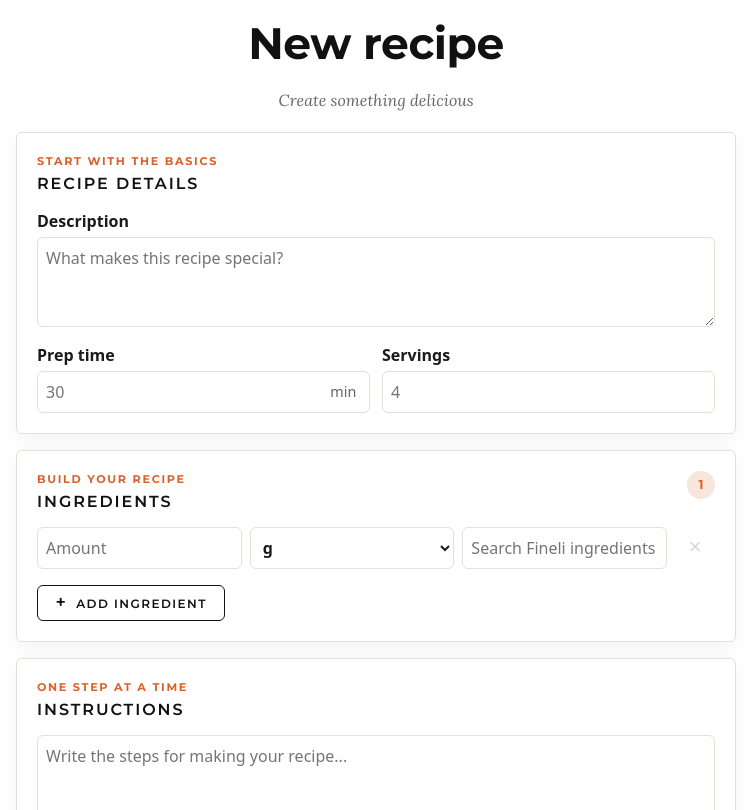
Test case: RecipeFormPage › rejects zero or negative ingredient amounts before calling the API
Step 1. Type "0" into the number field named "Amount for ingredient 1" → {"x": 139, "y": 548}, box [37,527,242,569]
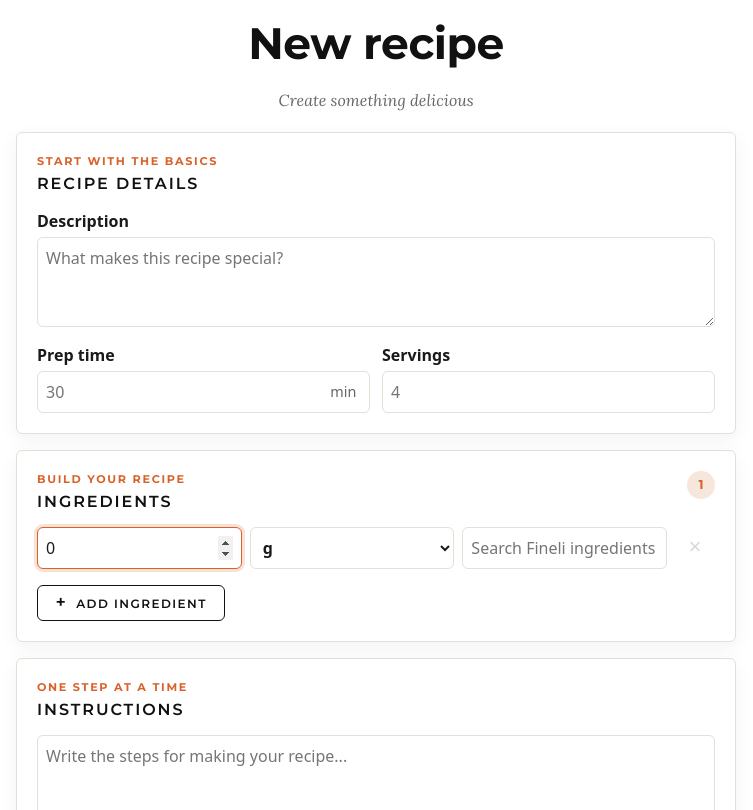
Step 2. Type "sugar" into the dropdown named "Ingredient 1" → {"x": 565, "y": 548}, box [462,527,667,569]
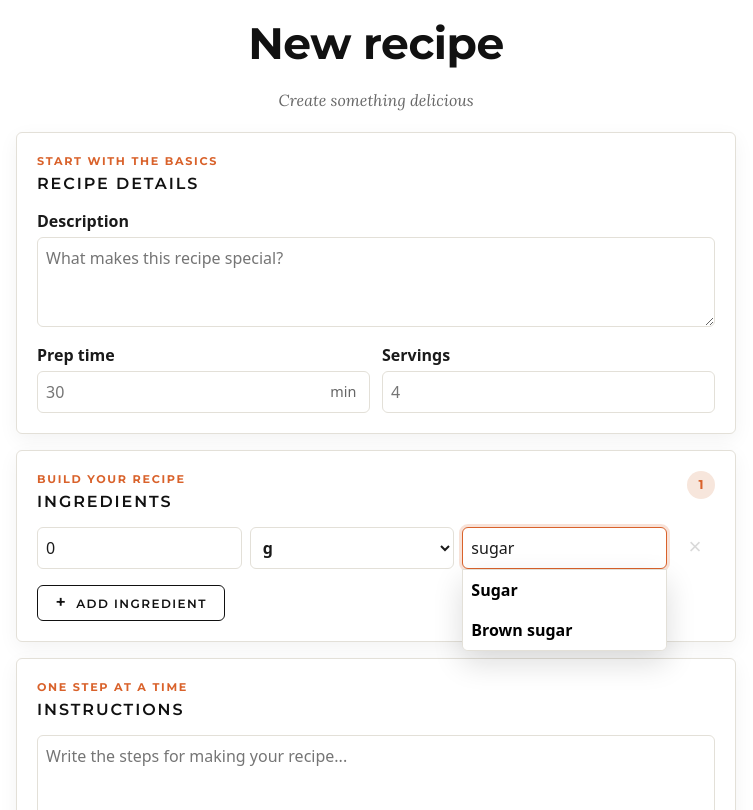
Step 3. Click the button "Sugar" → {"x": 565, "y": 590}, box [463,570,666,610]
(page scrolled)
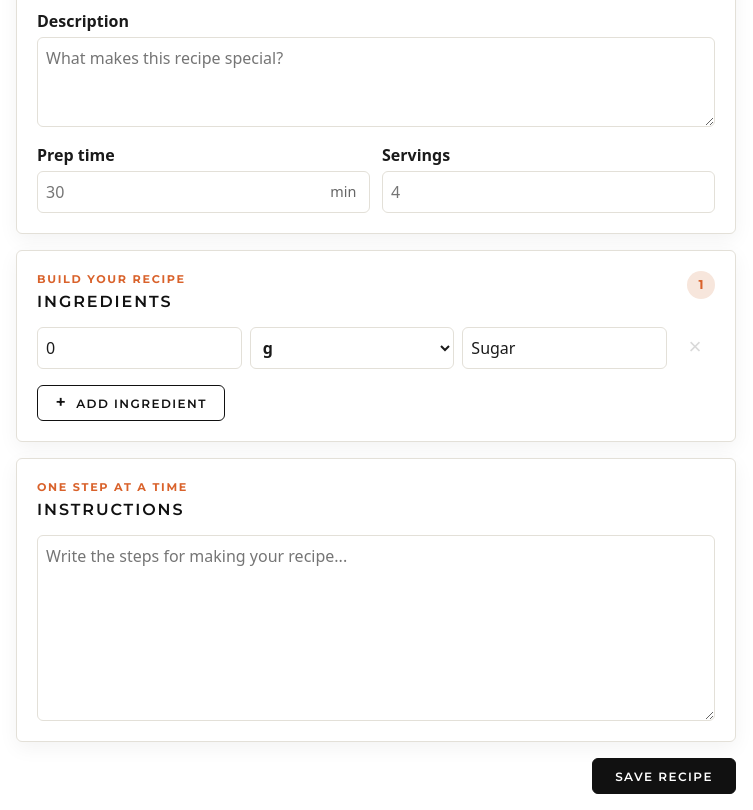
Step 4. Click the button "Save recipe" → {"x": 664, "y": 776}, box [592,758,736,794]
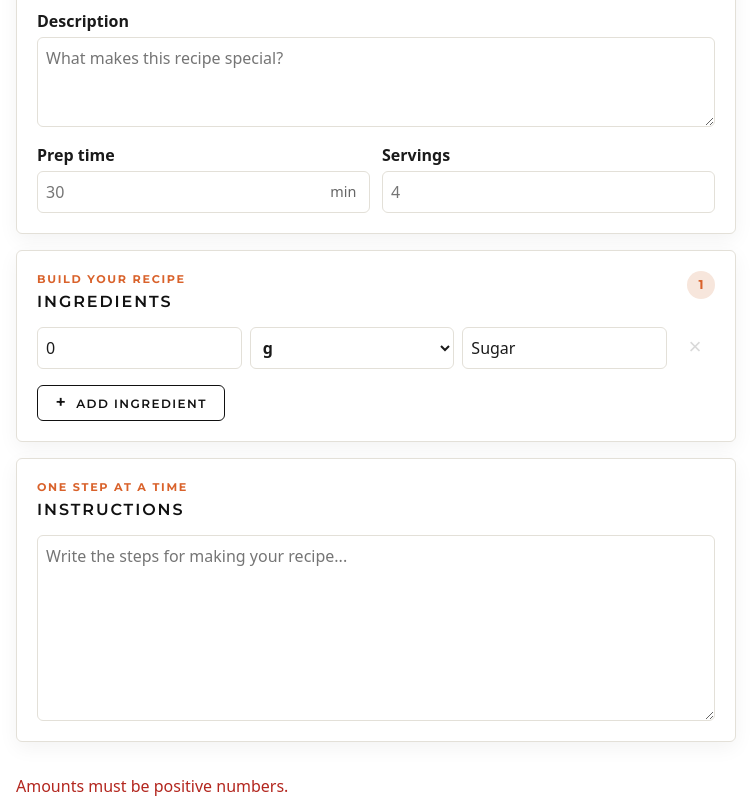
Expected: the text "Amounts must be positive numbers." is shown, [16,775,288,797]
